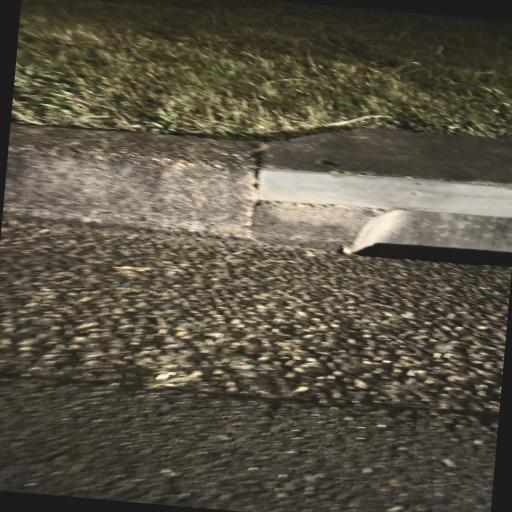kerb: (253, 129, 512, 265), (3, 127, 257, 238)
